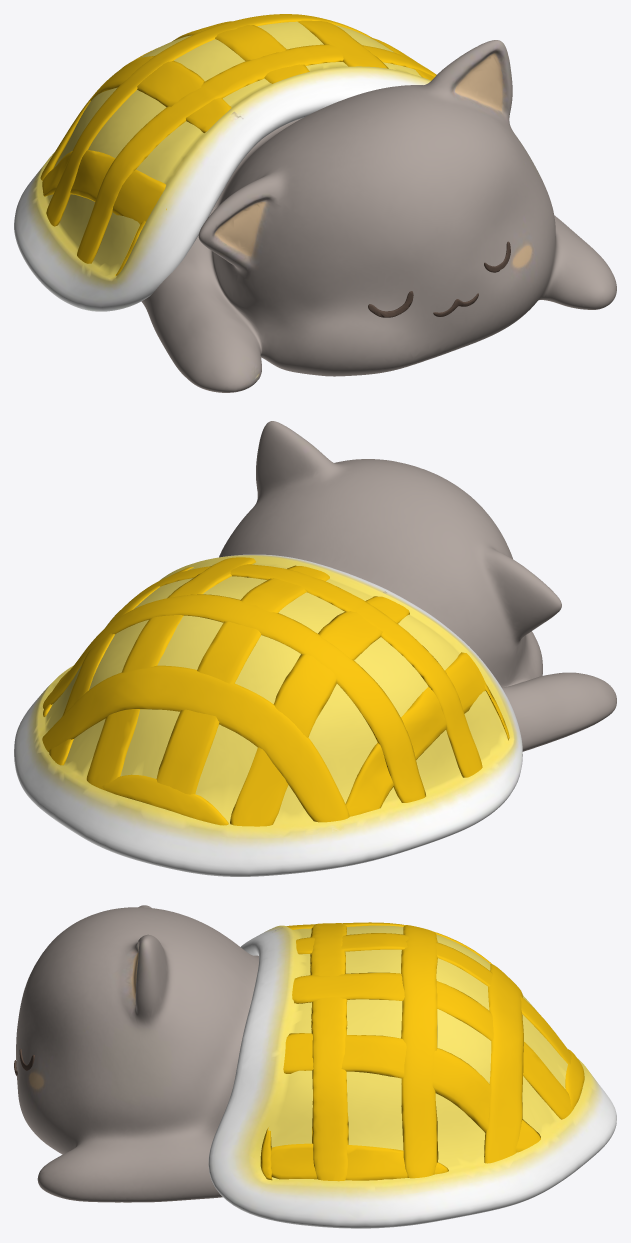
Rendered from cat.glb.
The picture shows the model from 3 angles, top to bottom: view 1: azimuth 30°, elevation 25°; view 2: azimuth 150°, elevation 25°; view 3: azimuth 270°, elevation 25°; orthographic projection. The views are drawn at different scales.
Visible parts, largest first — view 1: defaultMaterial; view 2: defaultMaterial; view 3: defaultMaterial.
Boxes of the visible parts, x1=… form: defaultMaterial: x1=14, y1=14, x2=616, y2=392; defaultMaterial: x1=14, y1=421, x2=616, y2=876; defaultMaterial: x1=14, y1=905, x2=616, y2=1228.
Bounding box in the file's own units: 1.67 × 0.8826 × 2.
1 material, 1 textured.
